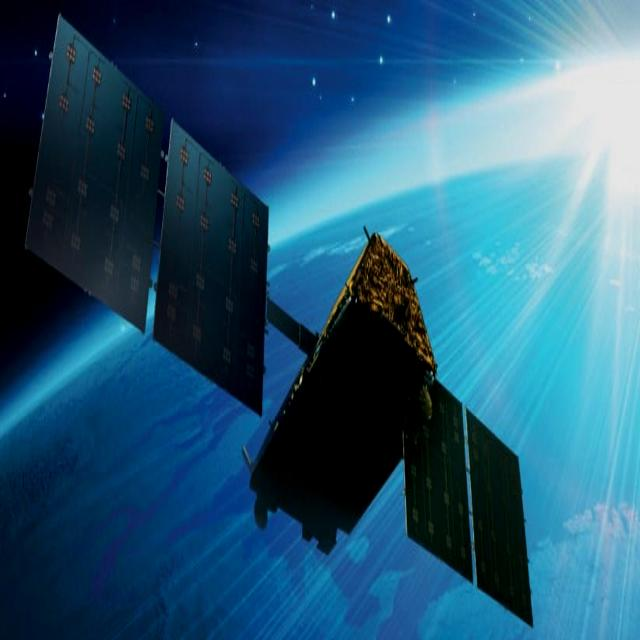medium_debris: (18, 0, 542, 632)
